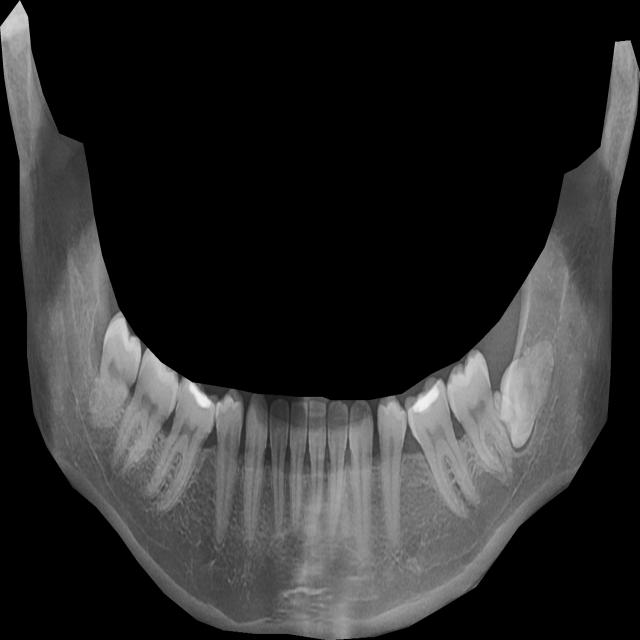mandibula: (0, 0, 640, 640)
